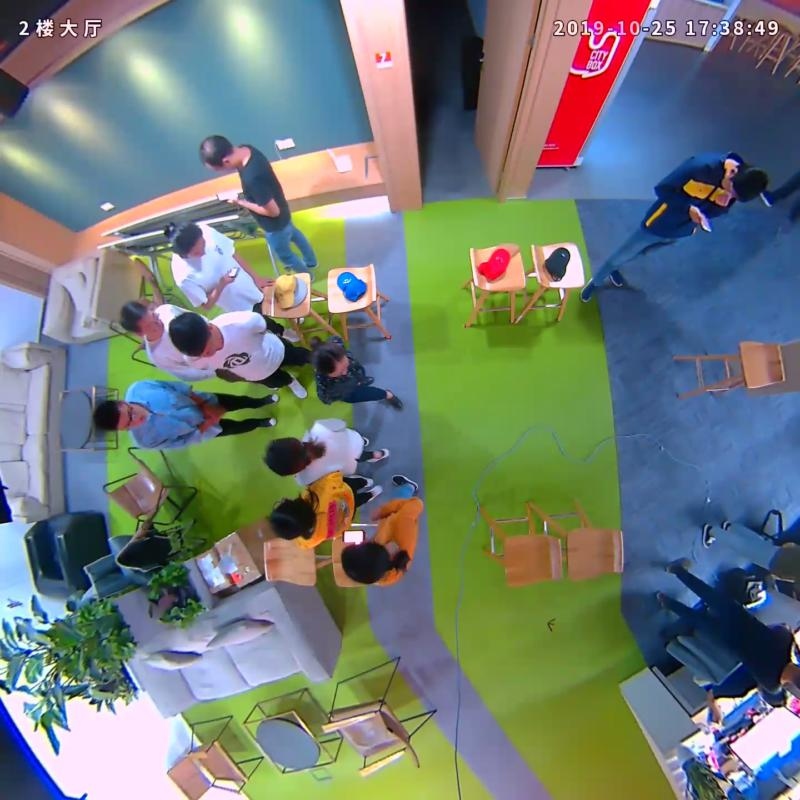head: (169, 311, 214, 359), (340, 541, 388, 584), (264, 436, 309, 478), (268, 496, 311, 539), (93, 399, 149, 431), (721, 163, 767, 201), (118, 301, 165, 338), (167, 221, 207, 261), (312, 341, 350, 378), (198, 135, 235, 172)
